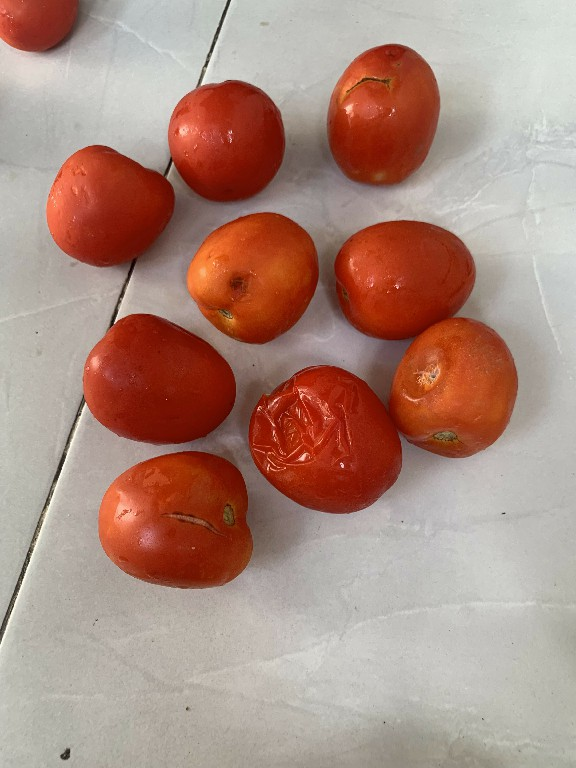NG: (250, 365, 403, 525), (175, 209, 320, 351), (324, 42, 449, 191), (391, 310, 515, 453)
OK: (86, 448, 257, 593), (77, 307, 240, 440), (324, 215, 480, 343), (45, 141, 178, 274), (163, 74, 289, 202)
